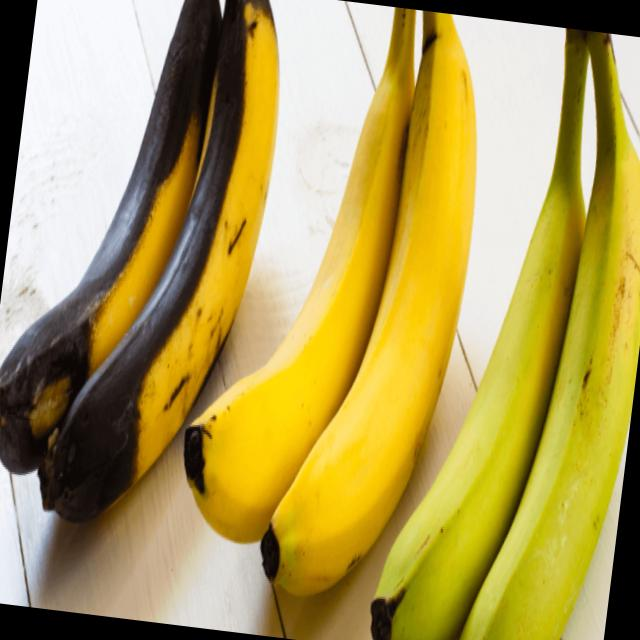banana: (258, 8, 496, 636), (366, 13, 597, 640), (175, 0, 423, 573), (464, 28, 640, 640)
